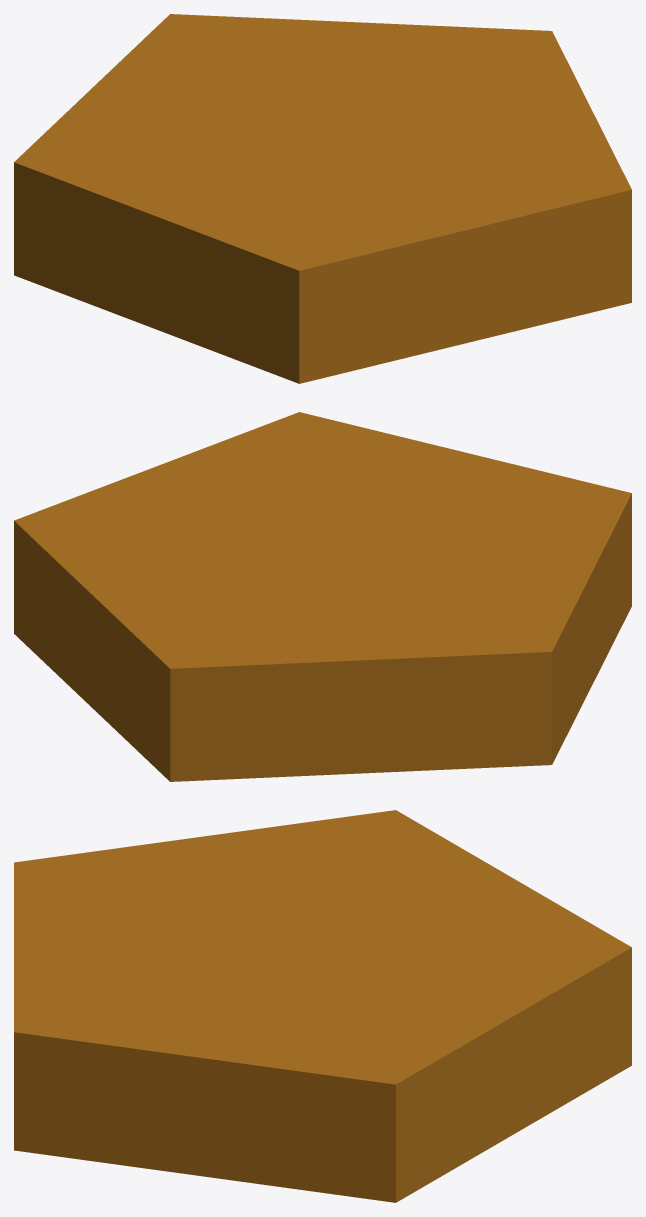
The model's file is Coin.fbx.
3 renders of one model, top to bottom at view 1: azimuth 30°, elevation 25°; view 2: azimuth 150°, elevation 25°; view 3: azimuth 270°, elevation 25°, orthographic. The views are drawn at different scales.
Visible parts, largest first — view 1: Coin; view 2: Coin; view 3: Coin.
Boxes of the visible parts, x1=… form: Coin: x1=14, y1=14, x2=631, y2=383; Coin: x1=14, y1=412, x2=631, y2=781; Coin: x1=14, y1=810, x2=631, y2=1202.
Bounding box in the file's own units: 11.46 × 2.3 × 10.9.
